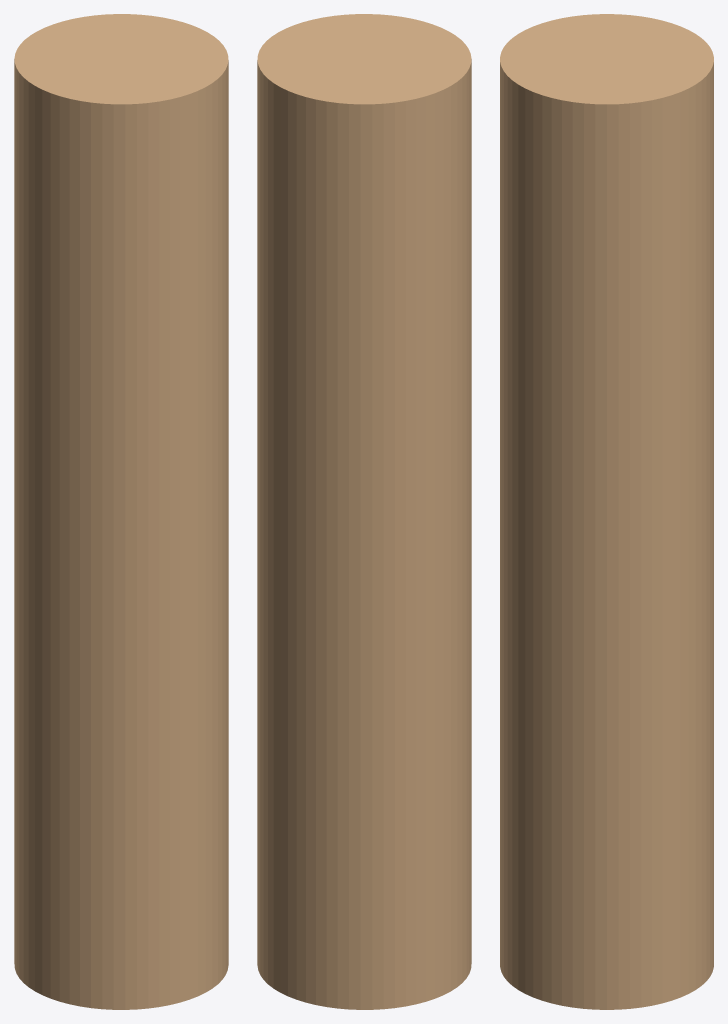
File: starter-solenoid-s-terminal.glb
3 renders of one model, left to right at view 1: azimuth 30°, elevation 25°; view 2: azimuth 150°, elevation 25°; view 3: azimuth 270°, elevation 25°, orthographic.
Parts seen in each view (by area): view 1: world; view 2: world; view 3: world.
Boxes of the visible parts, x1,y1,x2,y2 form: world: (14,14,228,1009); world: (257,14,471,1009); world: (500,14,713,1009).
Bounding box in the file's own units: 0.003 × 0.014 × 0.003.
